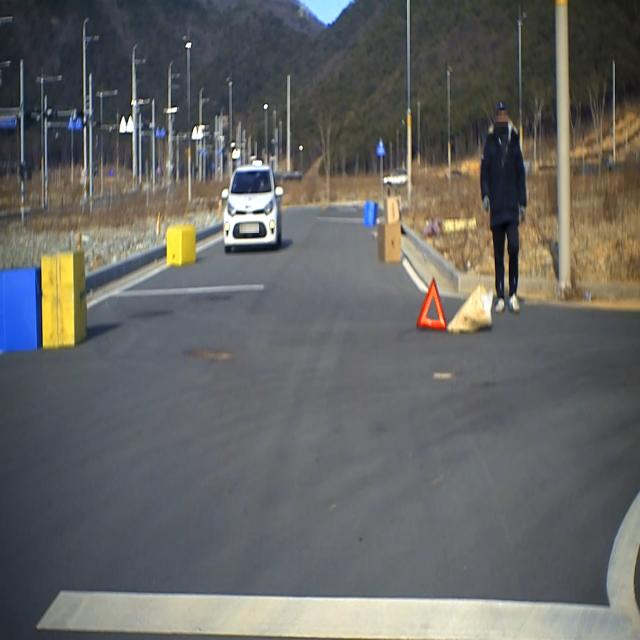Pothole: (180, 336, 238, 373)
